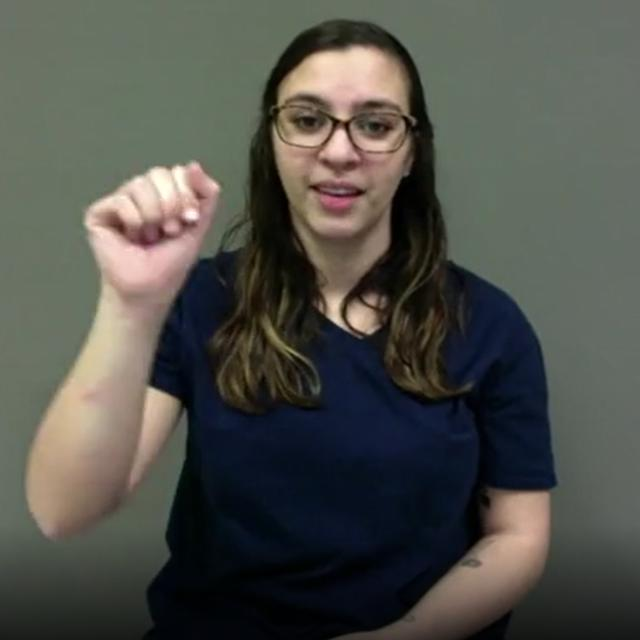yes: (84, 161, 222, 297)
